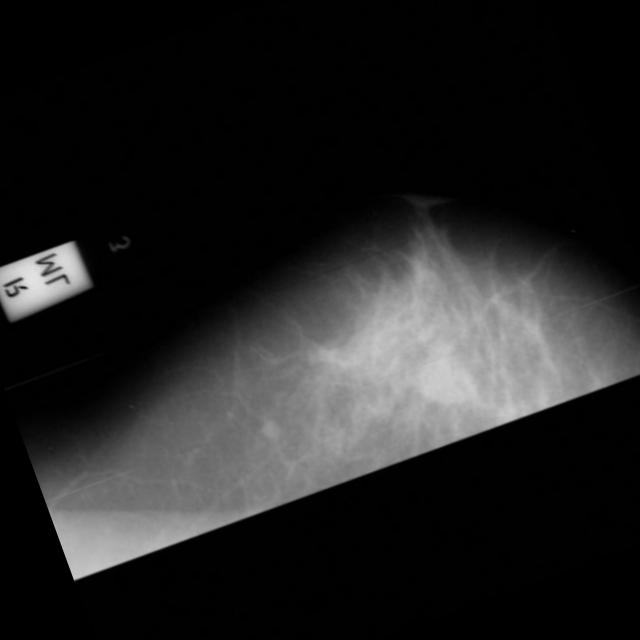ASYM: (400, 340, 479, 419)
